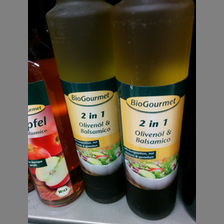vinegar: (114, 1, 193, 219), (47, 1, 127, 203), (29, 4, 85, 207)
